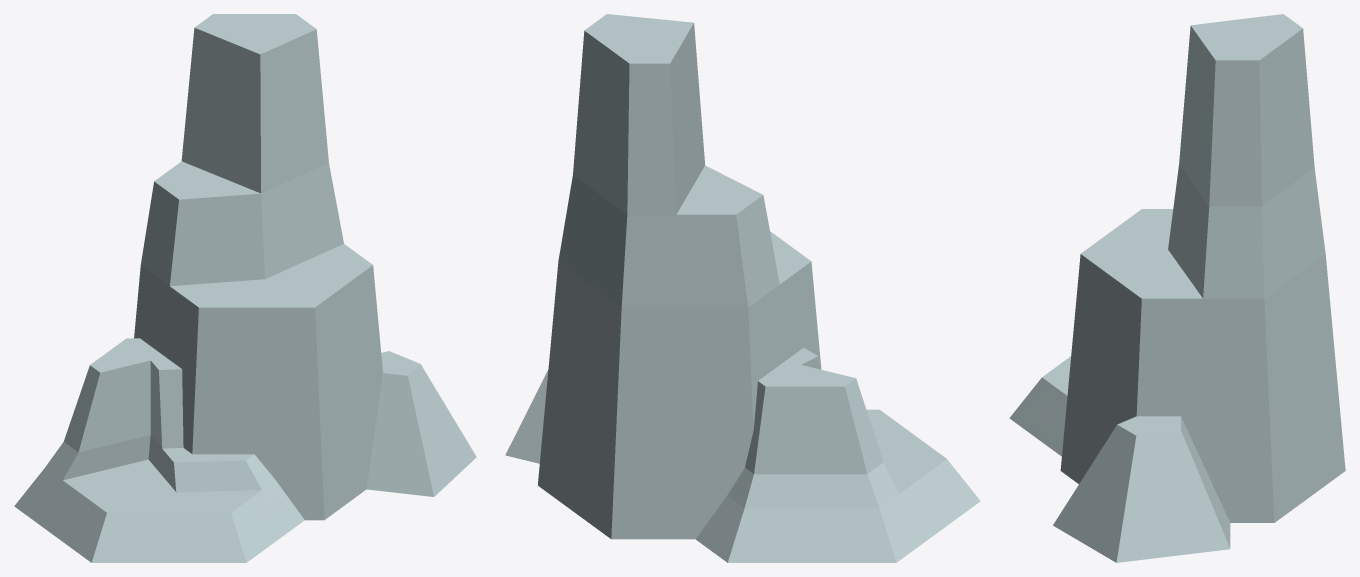
File: stone_tallA.gltf
3 views of the same model, side by side, from view 1: azimuth 30°, elevation 25°; view 2: azimuth 150°, elevation 25°; view 3: azimuth 270°, elevation 25° (orthographic). The views are drawn at different scales.
Parts seen in each view (by area): view 1: stone_tallA; view 2: stone_tallA; view 3: stone_tallA.
Part boxes in pixels (x1=…): stone_tallA: x1=14, y1=14, x2=476, y2=562; stone_tallA: x1=505, y1=14, x2=980, y2=562; stone_tallA: x1=1009, y1=14, x2=1345, y2=562.
Size of the model in its own units: 0.9831 by 0.9959 by 0.6832.
